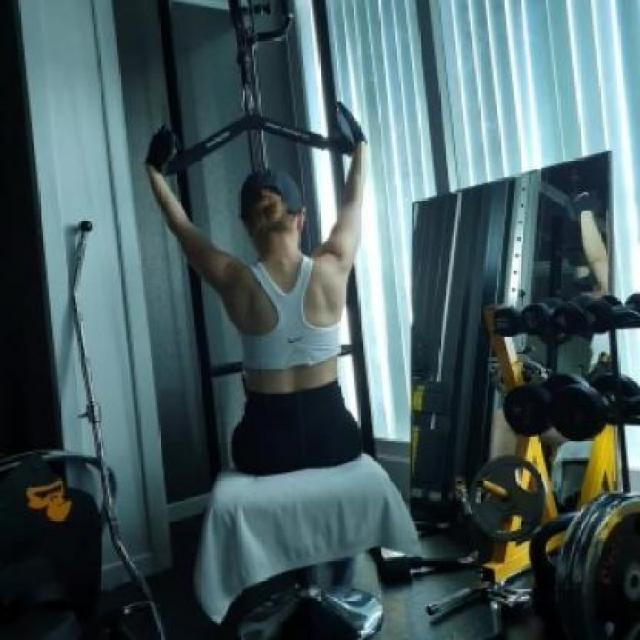Lat Pull Down: (106, 0, 465, 640)
